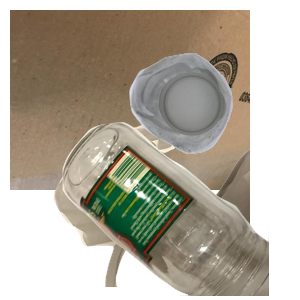cardboard: (10, 10, 250, 190)
glass: (60, 120, 300, 300)
plastic: (127, 51, 300, 197)
trash: (51, 120, 291, 300)
